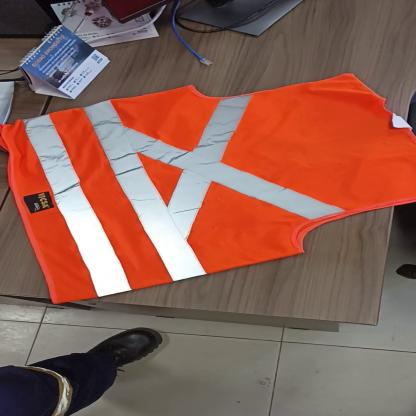colete: (3, 70, 416, 307)
